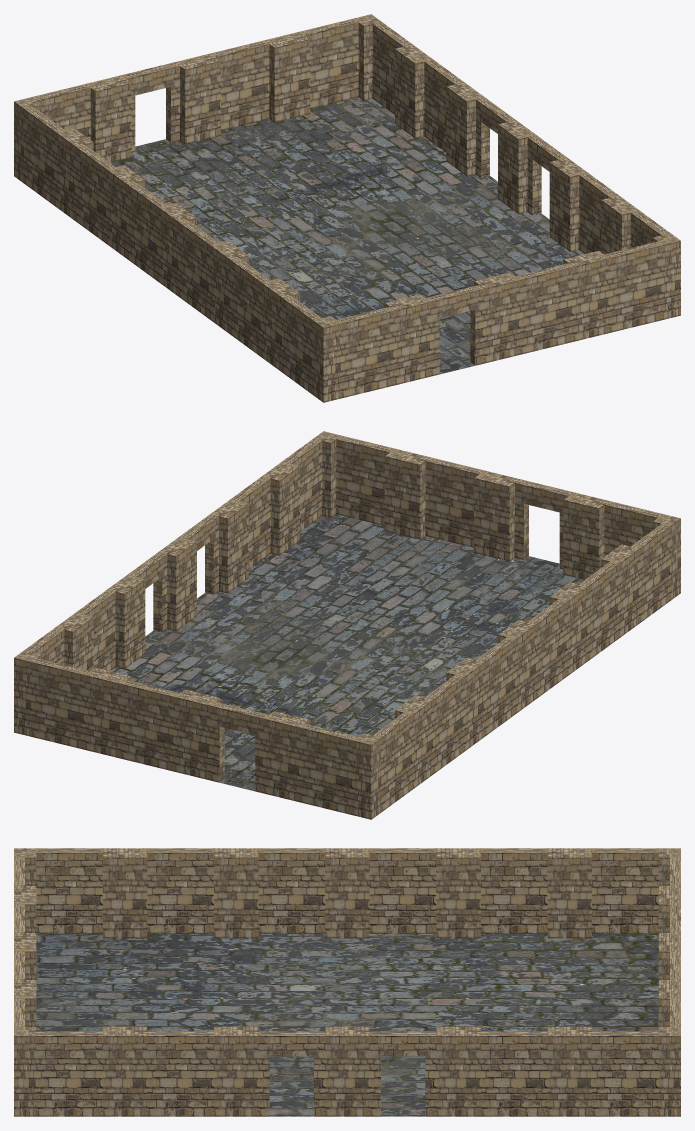
File: threeWayJunc.fbx
3 renders of one model, top to bottom at view 1: azimuth 30°, elevation 25°; view 2: azimuth 150°, elevation 25°; view 3: azimuth 270°, elevation 25°, orthographic. The views are drawn at different scales.
Visible parts, largest first — view 1: Plane, Cube_24, Cube_15, Cube_9_2, Cube_18, Cube_8_2, Cube_10_2, Cube_25, Cube_27, Cube_19, Cube_7_2, Cube_17 (+29 smaller); view 2: Plane, Cube_18, Cube_26, Cube_8_2, Cube_24, Cube_9_2, Cube_19, Cube_17, Cube_7_2, Cube_10_2, Cube_27, Cube_25 (+29 smaller); view 3: Plane, Cube_14, Cube_6_2, Cube_16, Cube_31, Cube_29, Cube_23, Cube_21, Cube_4_2, Cube_1, Cube_14_2, Cube_28 (+21 smaller).
Boxes of the visible parts, x1,y1,x2,y2 form: Plane: [110, 97, 584, 374]; Cube_24: [515, 263, 573, 354]; Cube_15: [336, 307, 394, 398]; Cube_9_2: [604, 241, 662, 332]; Cube_18: [211, 40, 269, 130]; Cube_8_2: [300, 18, 358, 108]; Cube_10_2: [264, 31, 310, 122]; Cube_25: [175, 53, 220, 144]; Cube_27: [86, 75, 131, 162]; Cube_19: [563, 251, 609, 341]; Cube_7_2: [384, 294, 430, 385]; Cube_17: [474, 272, 519, 363]; Plane: [110, 514, 584, 791]; Cube_18: [121, 680, 179, 771]; Cube_26: [300, 724, 358, 815]; Cube_8_2: [32, 658, 90, 749]; Cube_24: [425, 457, 483, 547]; Cube_9_2: [336, 435, 394, 525]; Cube_19: [384, 448, 430, 539]; Cube_17: [474, 470, 519, 561]; Cube_7_2: [563, 492, 608, 579]; Cube_10_2: [85, 668, 131, 758]; Cube_27: [264, 711, 310, 802]; Cube_25: [175, 689, 220, 780]; Plane: [36, 933, 658, 1116]; Cube_14: [369, 848, 436, 933]; Cube_6_2: [258, 848, 325, 933]; Cube_16: [147, 1031, 213, 1116]; Cube_31: [592, 1031, 658, 1116]; Cube_29: [481, 1031, 547, 1116]; Cube_23: [592, 848, 658, 933]; Cube_21: [481, 848, 547, 933]; Cube_4_2: [36, 1031, 102, 1116]; Cube_1: [147, 848, 213, 933]; Cube_14_2: [36, 848, 102, 933]; Cube_28: [436, 1026, 480, 1116].
Size of the model in its own units: 40 by 8 by 60.
Materials: 2 (2 with a texture image).
